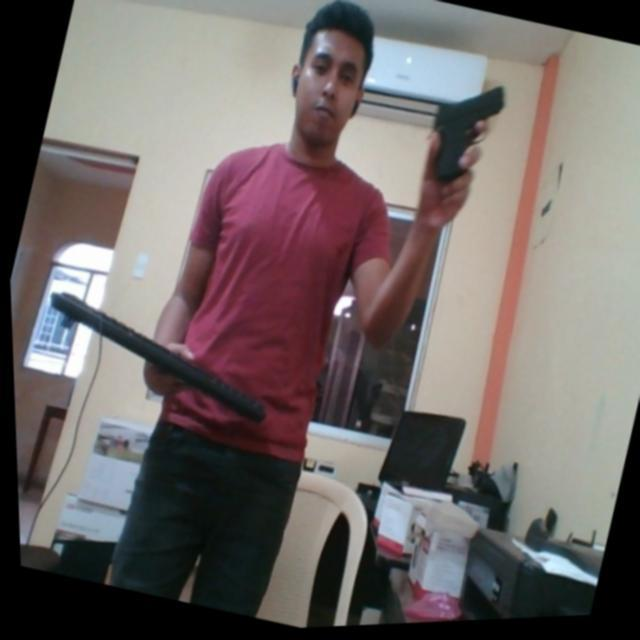weapon: (412, 72, 514, 202)
